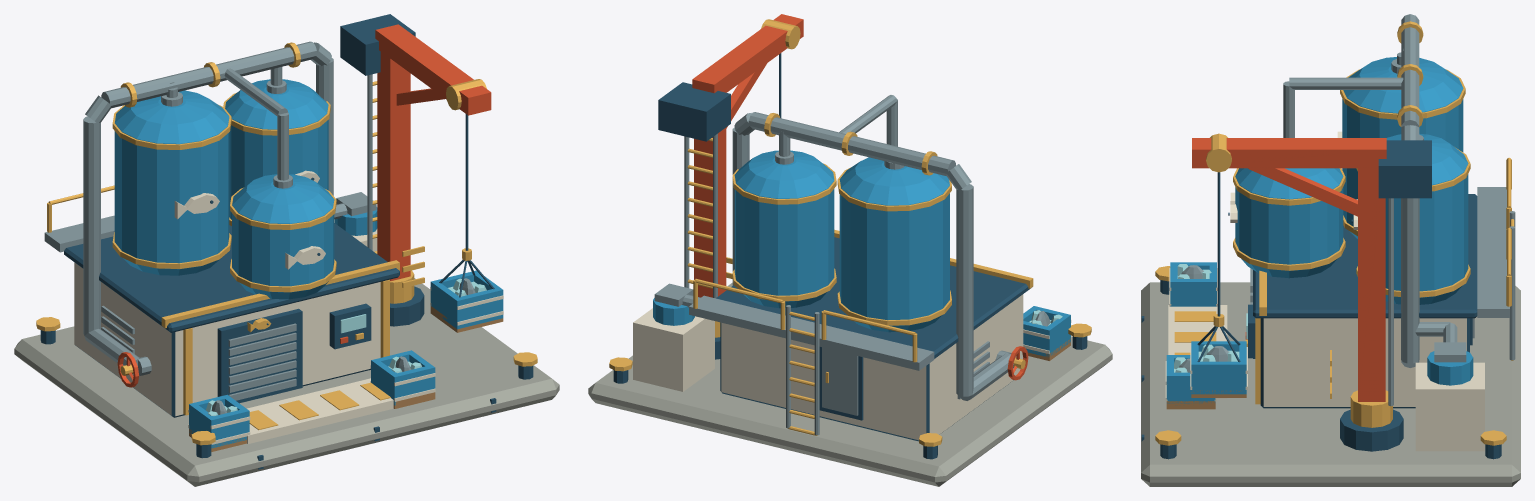
File: marine-plant-lv3.glb
3 renders of one model, left to right at view 1: azimuth 30°, elevation 25°; view 2: azimuth 150°, elevation 25°; view 3: azimuth 270°, elevation 25°, orthographic. The views are drawn at different scales.
Visible parts, largest first — view 1: Plant_L3, Fish_Cargo.002; view 2: Plant_L3; view 3: Plant_L3, Fish_Cargo.002, Hoist_Rope.002, Cargo_Slings.002.
Part boxes in pixels (x1,y1,x2,y2): Plant_L3: [14, 14, 559, 486]; Fish_Cargo.002: [430, 270, 503, 332]; Plant_L3: [588, 14, 1112, 486]; Plant_L3: [1141, 14, 1520, 486]; Fish_Cargo.002: [1190, 341, 1247, 397]; Hoist_Rope.002: [1217, 172, 1220, 316]; Cargo_Slings.002: [1197, 314, 1240, 362].
Bounding box in the file's own units: 5.5 × 4.31 × 4.65.
